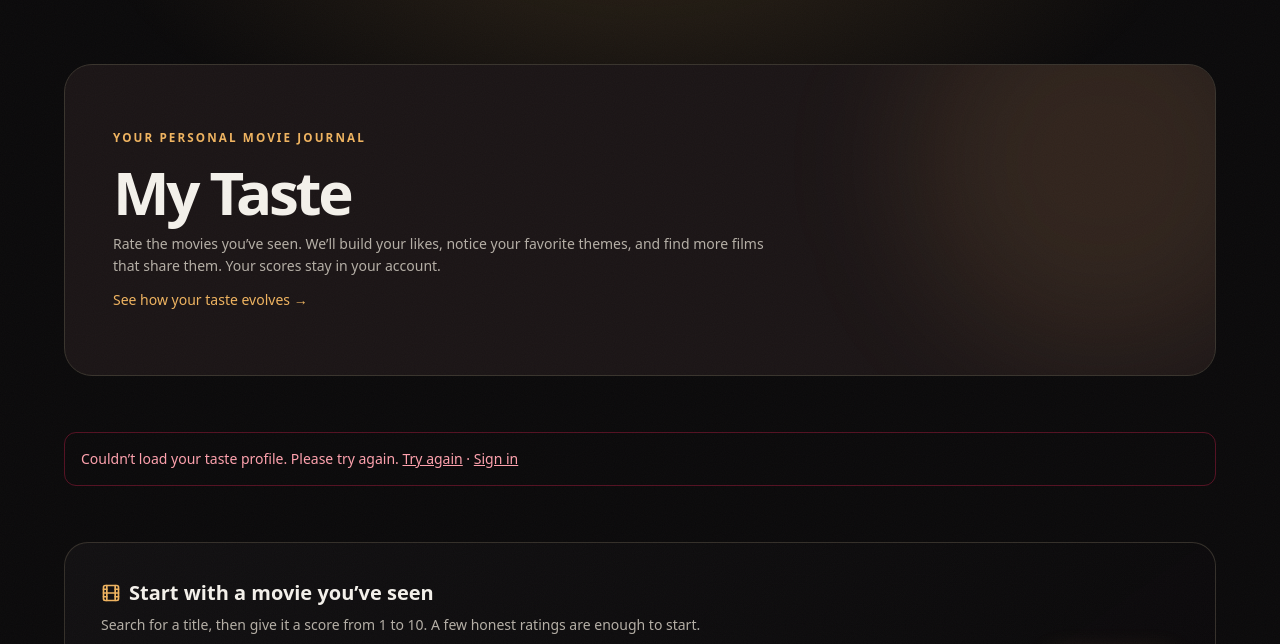
it: shows a retry when the profile cannot load
expect the message "Couldn’t load your taste profile. Please try again. Try again · Sign in" is shown: met, box [64,432,1216,486]
Step 1. Click the button "Try again" → (433, 459), box [402,449,463,469]
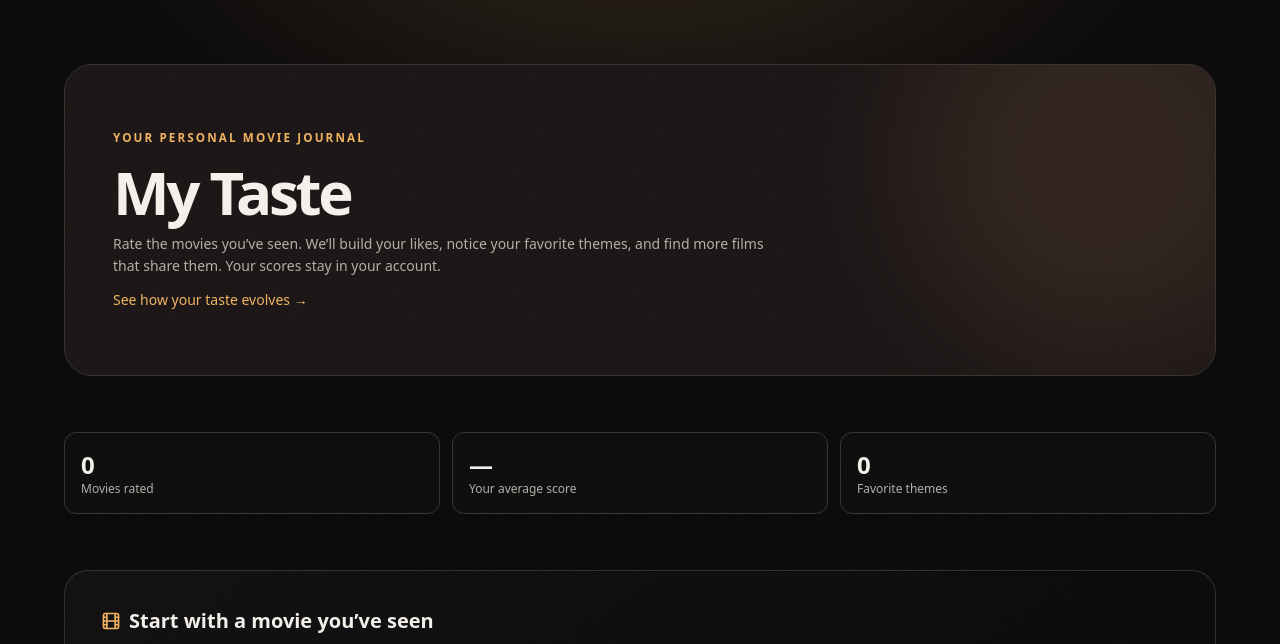
expect the element named "Your rating summary" is shown: met, box [64,432,1216,514]
expect the message "Couldn’t load your taste profile. Please try again. Try again · Sign in" is gone: met
